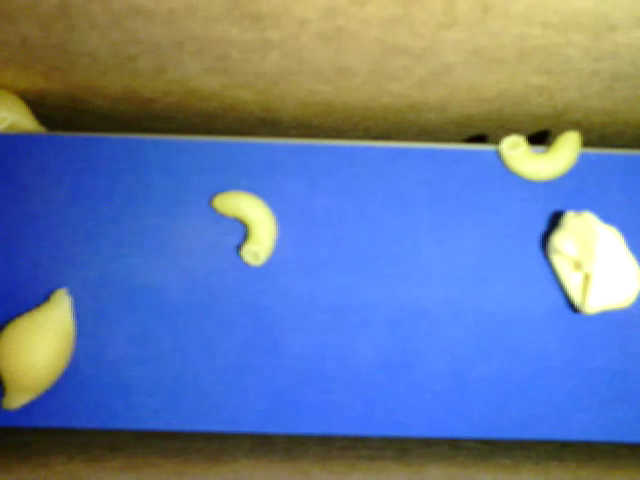elbow: (208, 185, 279, 276), (492, 123, 582, 185)
shell: (4, 282, 79, 411), (1, 87, 50, 135)
tortellini: (540, 202, 635, 318)
